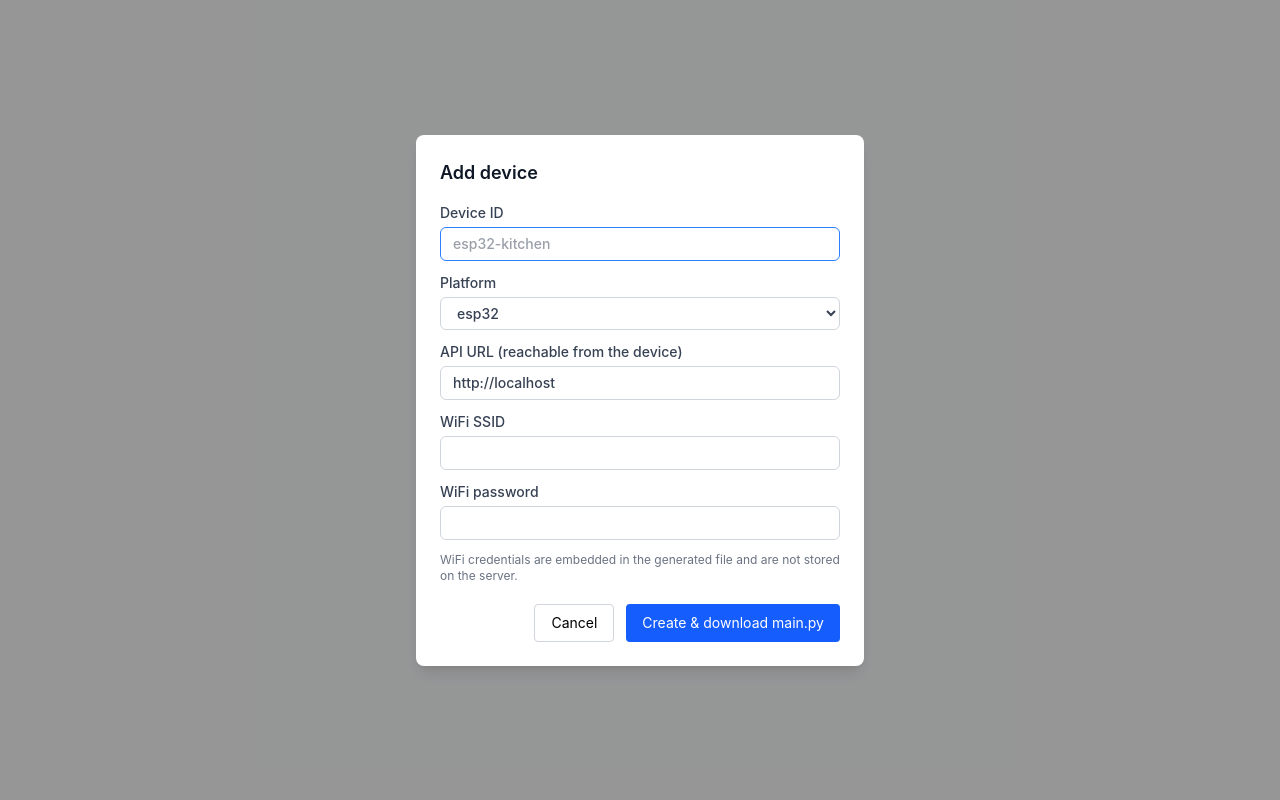
Test: ProvisionDeviceModal › requires an http(s) API URL and an SSID
Type "dev-1" into the field labelled "Device ID". click: (640, 244)
box: [440, 226, 840, 260]
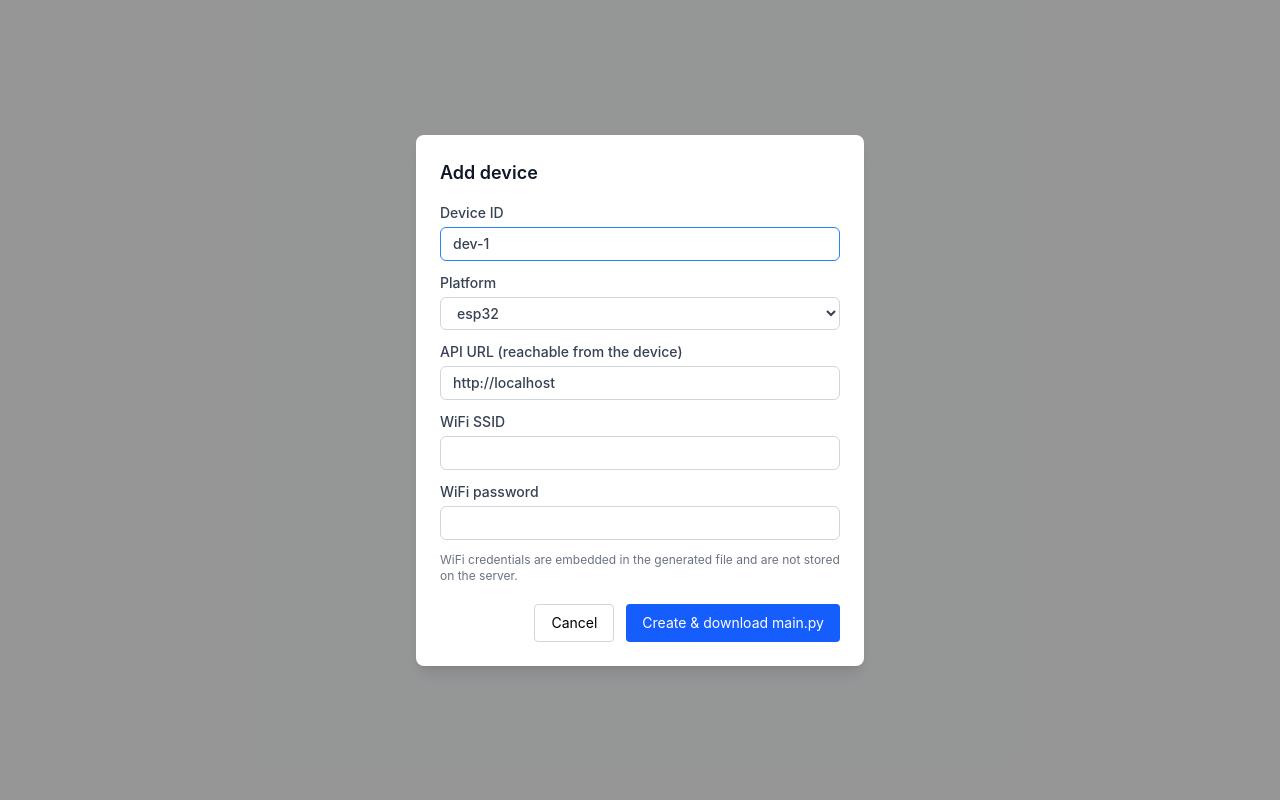
Click the button "Create & download main.py". click: click(733, 622)
box: [626, 604, 840, 642]
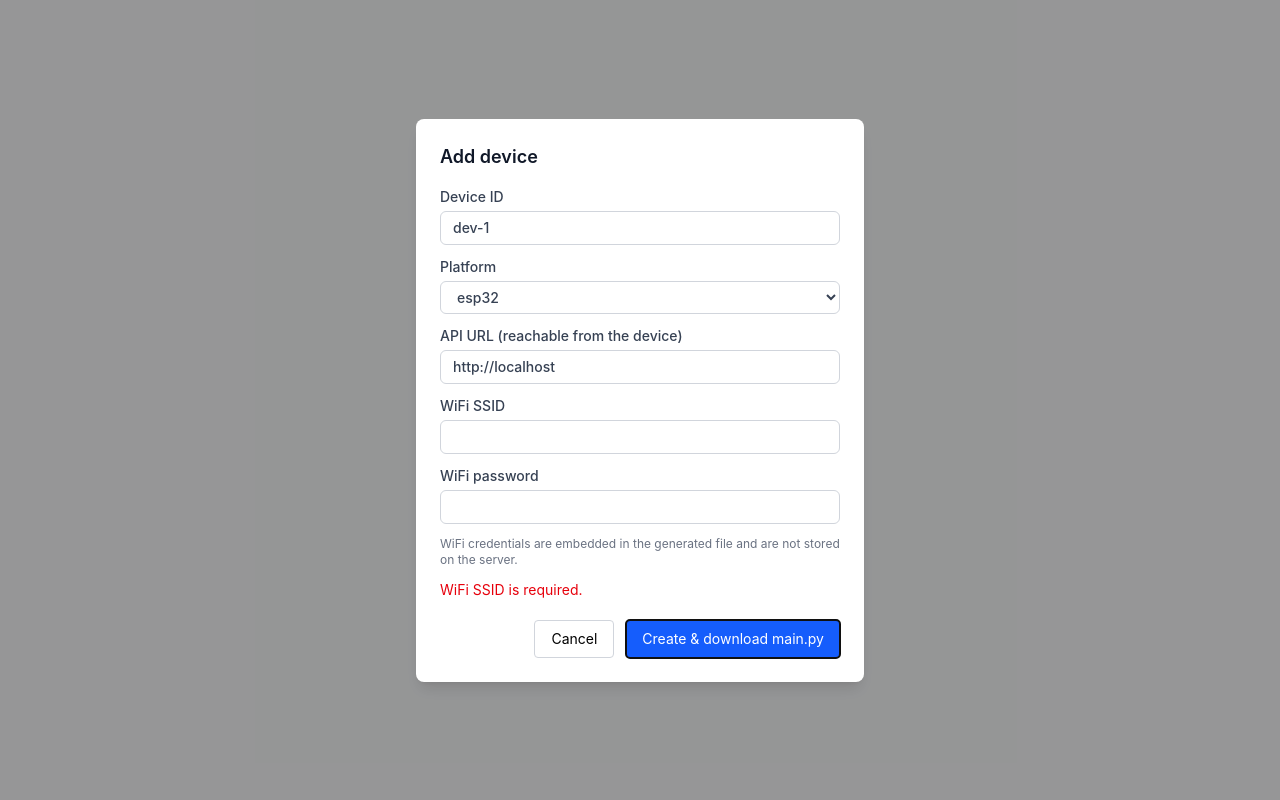
Now the message reads "WiFi SSID is required.", box [440, 580, 582, 598]
Replace the text in the field labelled "API URL (reachable from the device)" with "hub.local". click: (640, 366)
box: [440, 350, 840, 384]
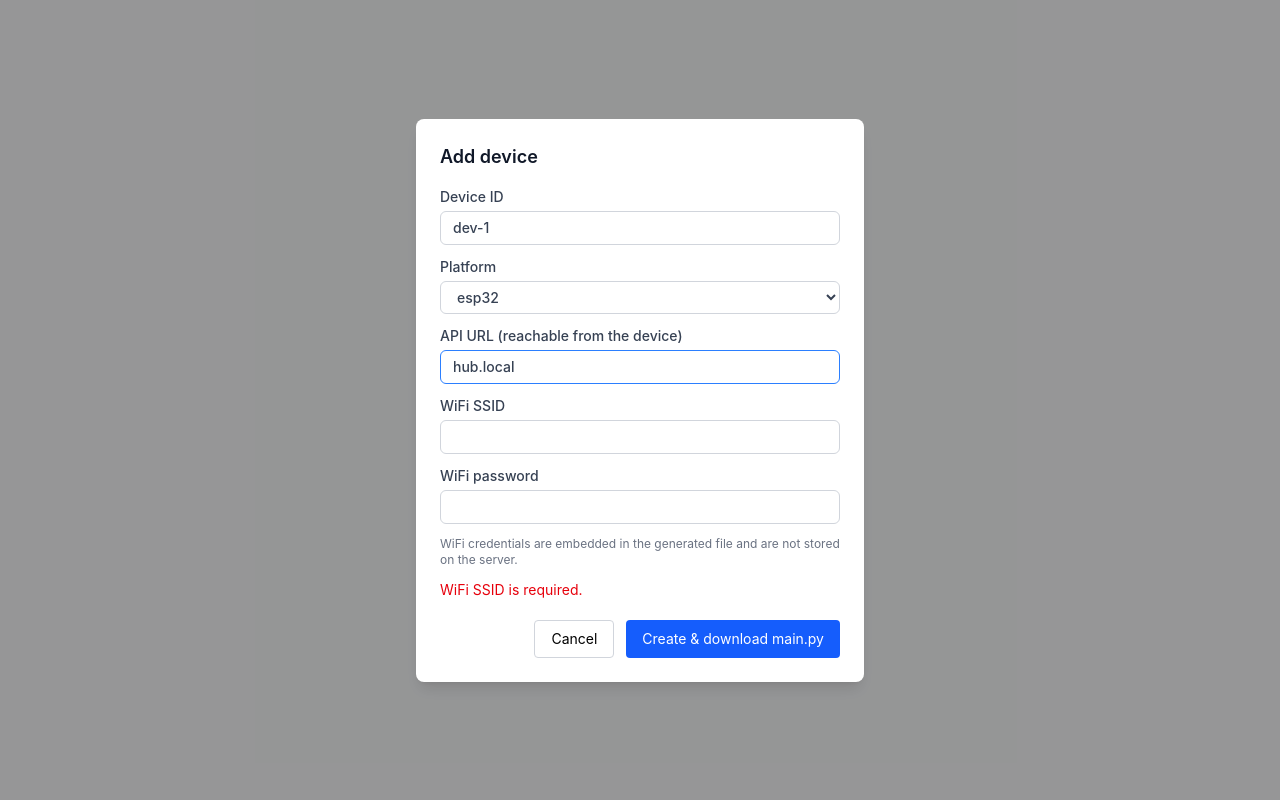
Click the button "Create & download main.py". click: click(733, 638)
box: [626, 620, 840, 658]
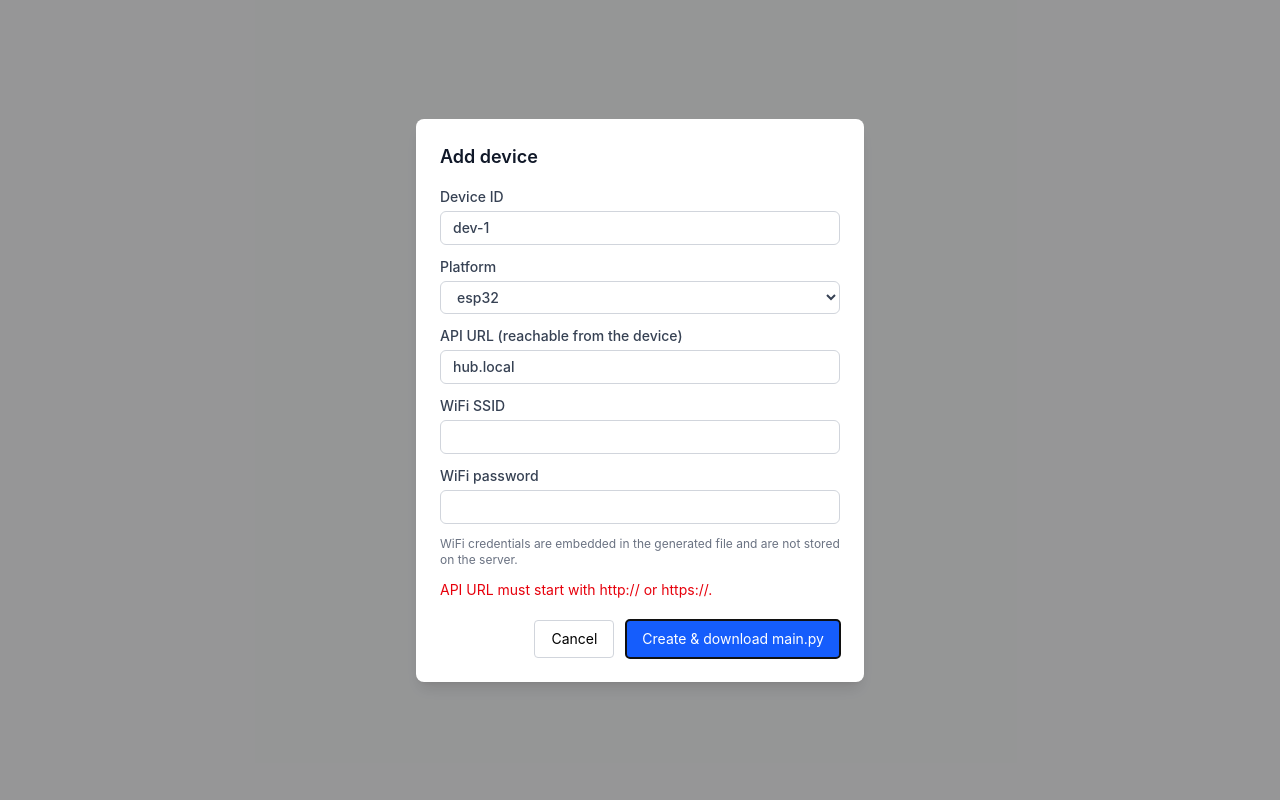
Now the message shows "API URL must start with http", box [440, 580, 712, 598]
